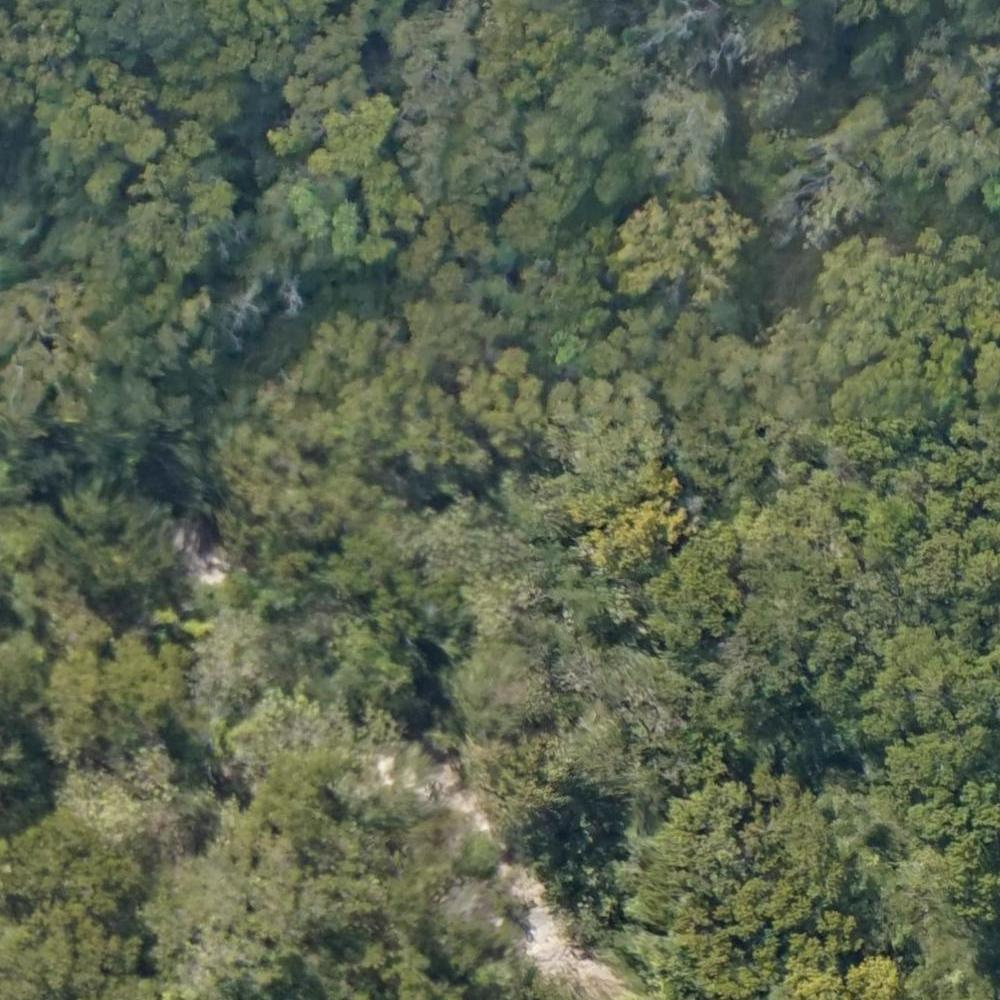tree: (160, 809, 345, 998), (460, 650, 553, 742), (105, 643, 195, 723), (463, 358, 533, 450), (656, 560, 728, 629), (468, 570, 539, 639), (583, 521, 660, 582), (635, 494, 695, 549), (871, 493, 925, 551), (193, 166, 248, 222), (602, 141, 653, 198), (867, 664, 918, 720), (166, 121, 226, 163), (120, 126, 167, 174), (457, 828, 506, 872), (664, 796, 709, 843), (578, 376, 619, 423), (850, 958, 895, 1000), (399, 236, 444, 276), (434, 259, 475, 297), (626, 387, 664, 425), (286, 72, 321, 106), (947, 233, 983, 265), (288, 183, 322, 216), (911, 227, 945, 255), (301, 212, 330, 242), (619, 366, 645, 398)
